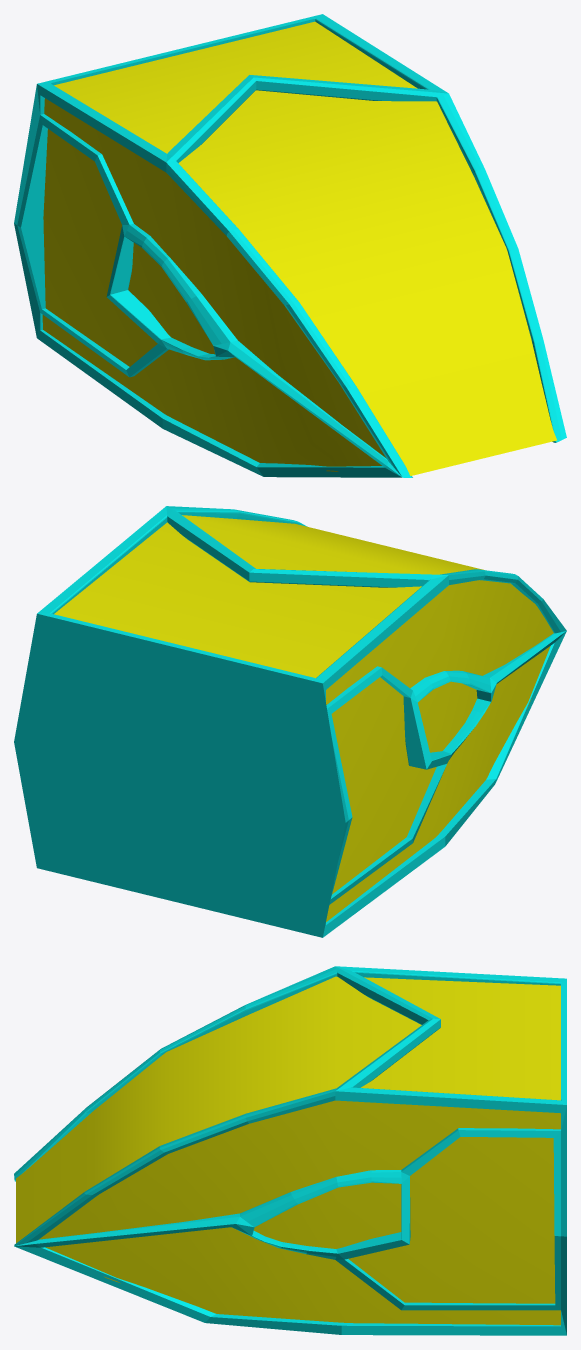
Rendered from cockpit_unity_finish.fbx.
The picture shows the model from 3 angles, top to bottom: view 1: azimuth 30°, elevation 25°; view 2: azimuth 150°, elevation 25°; view 3: azimuth 270°, elevation 25°; orthographic projection. The views are drawn at different scales.
Parts seen in each view (by area): view 1: pPlane4, fureimu; view 2: fureimu, pPlane4; view 3: pPlane4, fureimu.
Boxes of the visible parts, x1=… form: pPlane4: x1=42, y1=21, x2=556, y2=475; fureimu: x1=14, y1=14, x2=566, y2=477; fureimu: x1=14, y1=506, x2=566, y2=937; pPlane4: x1=54, y1=515, x2=553, y2=921; pPlane4: x1=16, y1=976, x2=560, y2=1325; fureimu: x1=14, y1=966, x2=566, y2=1335.
Size of the model in its own units: 288 by 232 by 459.
